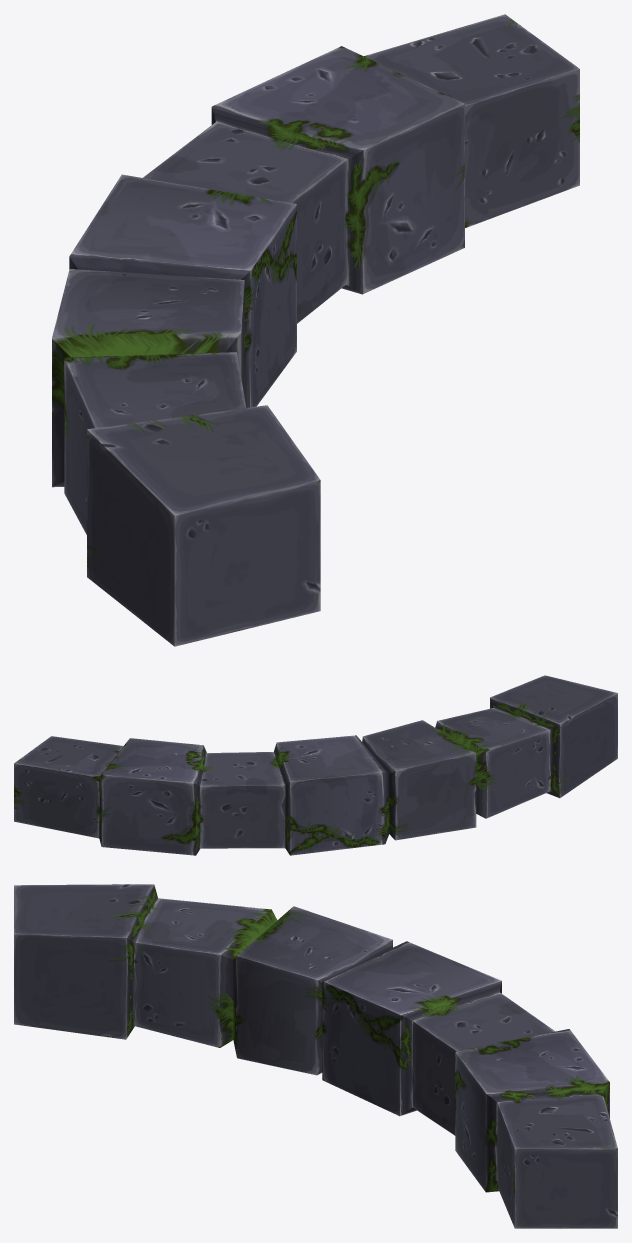
File: MOD_WallCover_01_E_concave.fbx
3 renders of one model, top to bottom at view 1: azimuth 30°, elevation 25°; view 2: azimuth 150°, elevation 25°; view 3: azimuth 270°, elevation 25°, orthographic. The views are drawn at different scales.
Parts seen in each view (by area): view 1: MOD_WallCover_01_E_concave; view 2: MOD_WallCover_01_E_concave; view 3: MOD_WallCover_01_E_concave.
Part boxes in pixels (x1=…): MOD_WallCover_01_E_concave: x1=52, y1=14, x2=579, y2=646; MOD_WallCover_01_E_concave: x1=14, y1=675, x2=617, y2=855; MOD_WallCover_01_E_concave: x1=14, y1=884, x2=617, y2=1228.
Size of what is drawn, in the model's own units: 415 by 76.65 by 410.
